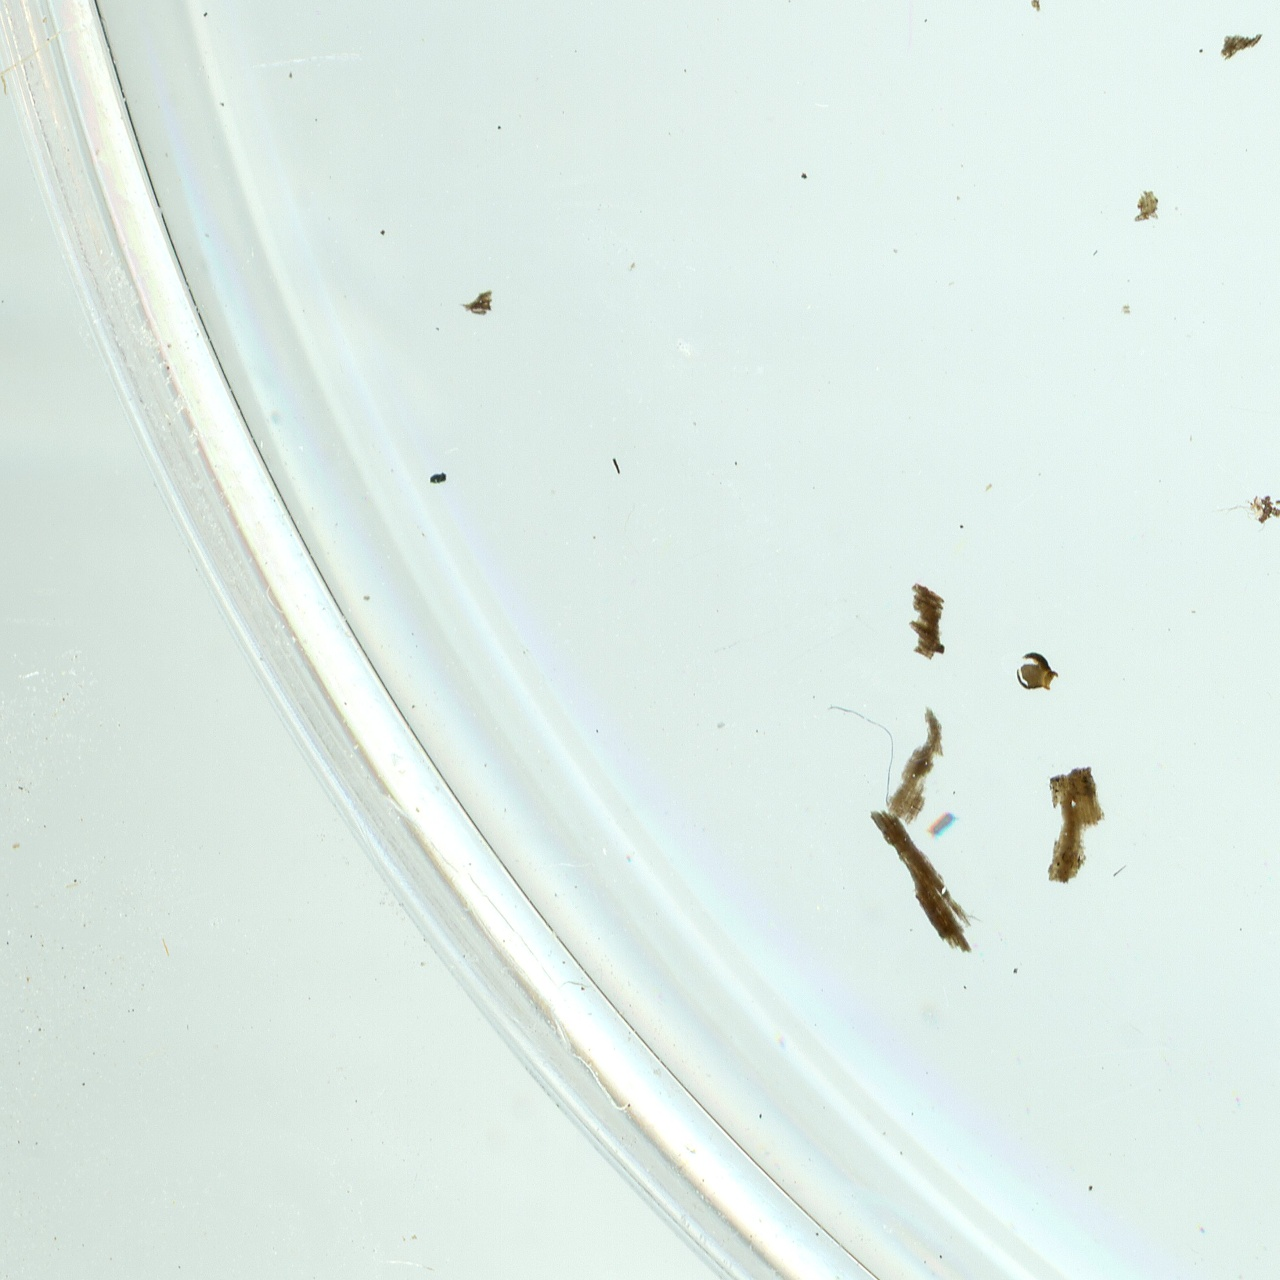arthropod: (922, 804, 961, 845)
